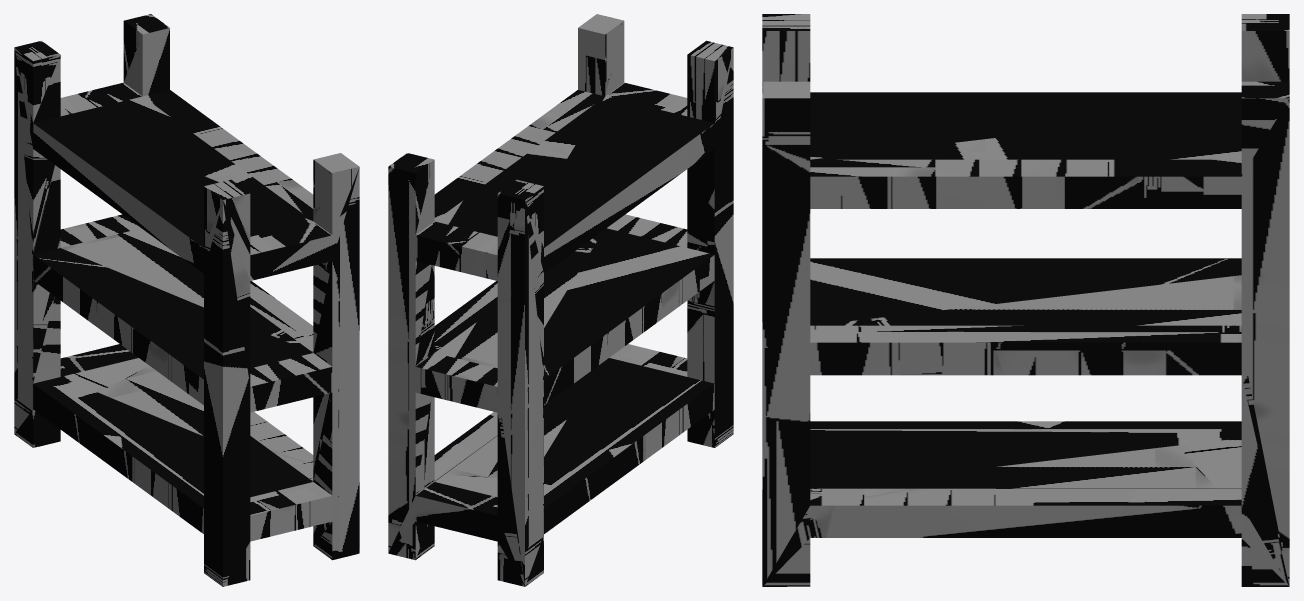
File: estanteria2.dae
The picture shows the model from 3 angles, left to right: view 1: azimuth 30°, elevation 25°; view 2: azimuth 150°, elevation 25°; view 3: azimuth 270°, elevation 25°; orthographic projection. The views are drawn at different scales.
Parts seen in each view (by area): view 1: Estante; view 2: Estante; view 3: Estante.
Part boxes in pixels (x1,y1,x2,y2): Estante: (14, 14, 359, 586); Estante: (388, 14, 733, 586); Estante: (762, 14, 1289, 586).
Size of the model in its own units: 0.6915 by 1.83 by 1.87.
Materials: 1 (1 with a texture image).
